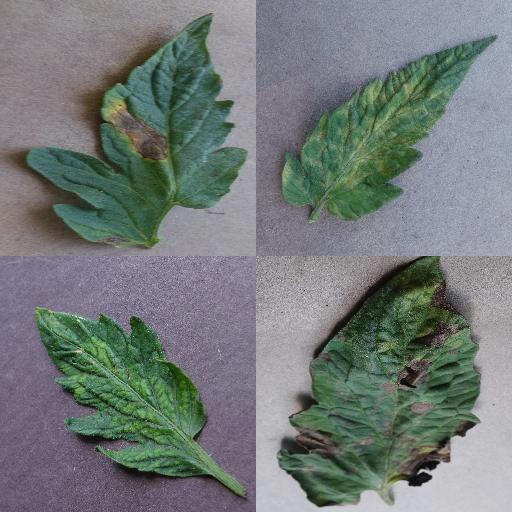Early Blight: (27, 8, 251, 252), (277, 256, 481, 512)
Leaf Mold: (280, 33, 498, 221)
Mosaic Virus: (33, 303, 211, 477)
